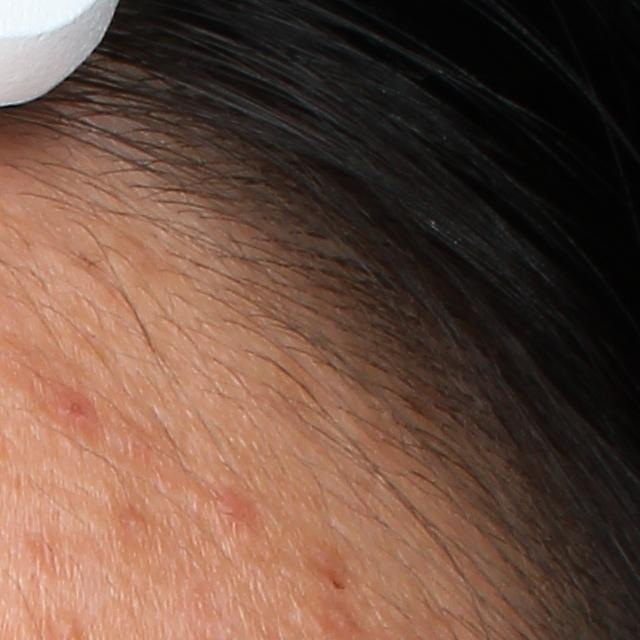papule: (210, 487, 259, 528)
